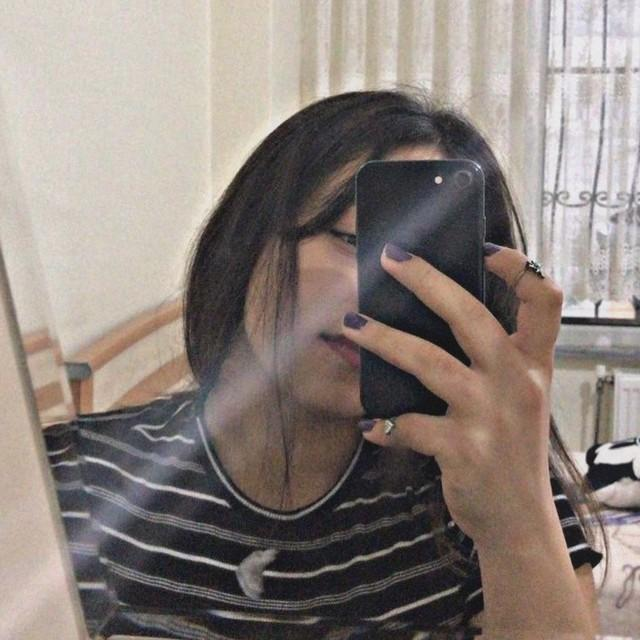phone: (356, 158, 486, 420)
